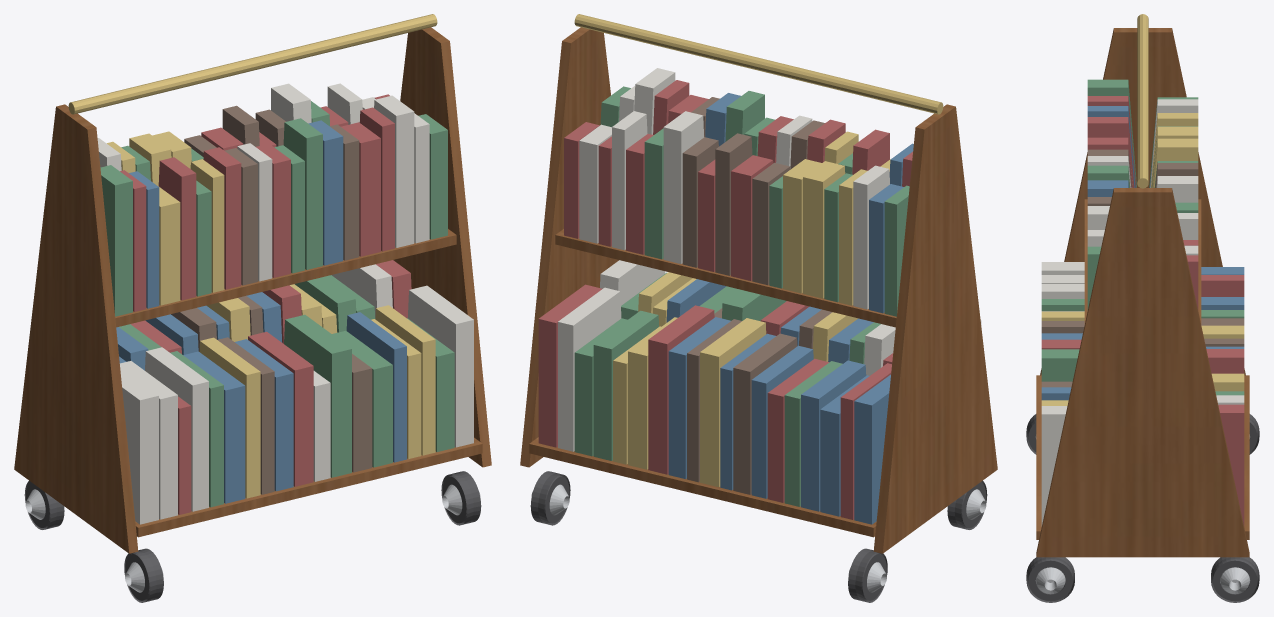
File: carrinho_livros.glb
3 views of the same model, side by side, from view 1: azimuth 30°, elevation 25°; view 2: azimuth 150°, elevation 25°; view 3: azimuth 270°, elevation 25° (orthographic). The views are drawn at different scales.
Visible parts, largest first — view 1: carrinho_livros_madeira, carrinho_livros_livro_6, carrinho_livros_livro_3, carrinho_livros_livro_1, carrinho_livros_livro_2, carrinho_livros_livro_4, carrinho_livros_livro_5, carrinho_livros_ouro_velho, carrinho_livros_borracha, carrinho_livros_aco; view 2: carrinho_livros_madeira, carrinho_livros_livro_1, carrinho_livros_livro_2, carrinho_livros_livro_3, carrinho_livros_livro_6, carrinho_livros_livro_4, carrinho_livros_livro_5, carrinho_livros_ouro_velho, carrinho_livros_borracha, carrinho_livros_aco; view 3: carrinho_livros_madeira, carrinho_livros_livro_6, carrinho_livros_livro_1, carrinho_livros_livro_3, carrinho_livros_livro_4, carrinho_livros_borracha, carrinho_livros_livro_2, carrinho_livros_livro_5, carrinho_livros_ouro_velho, carrinho_livros_aco.
Boxes of the visible parts, x1,y1,x2,y2 form: carrinho_livros_madeira: (14,27,491,553); carrinho_livros_livro_6: (97,83,473,524); carrinho_livros_livro_3: (100,101,454,507); carrinho_livros_livro_1: (120,94,411,514); carrinho_livros_livro_2: (116,120,406,503); carrinho_livros_livro_4: (107,131,435,498); carrinho_livros_livro_5: (171,105,372,494); carrinho_livros_ouro_velho: (68,14,437,114); carrinho_livros_borracha: (24,471,481,602); carrinho_livros_aco: (25,484,480,592); carrinho_livros_madeira: (520,27,997,553); carrinho_livros_livro_1: (538,80,912,519); carrinho_livros_livro_2: (666,93,913,524); carrinho_livros_livro_3: (574,86,909,506); carrinho_livros_livro_6: (558,68,981,451); carrinho_livros_livro_4: (613,131,890,487); carrinho_livros_livro_5: (682,97,832,494); carrinho_livros_ouro_velho: (574,14,943,114); carrinho_livros_borracha: (530,471,987,602); carrinho_livros_aco: (531,484,986,592); carrinho_livros_madeira: (1036,28,1249,557); carrinho_livros_livro_6: (1041,99,1244,526); carrinho_livros_livro_1: (1041,96,1244,526); carrinho_livros_livro_3: (1041,79,1244,395); carrinho_livros_livro_4: (1041,113,1244,405); carrinho_livros_borracha: (1026,414,1259,602); carrinho_livros_livro_2: (1041,106,1244,400); carrinho_livros_livro_5: (1041,149,1244,387); carrinho_livros_ouro_velho: (1137,14,1148,188); carrinho_livros_aco: (1035,434,1250,594).
Bounding box in the file's own units: 0.8 × 0.982 × 0.48.
Materials: 10 (1 with a texture image).
